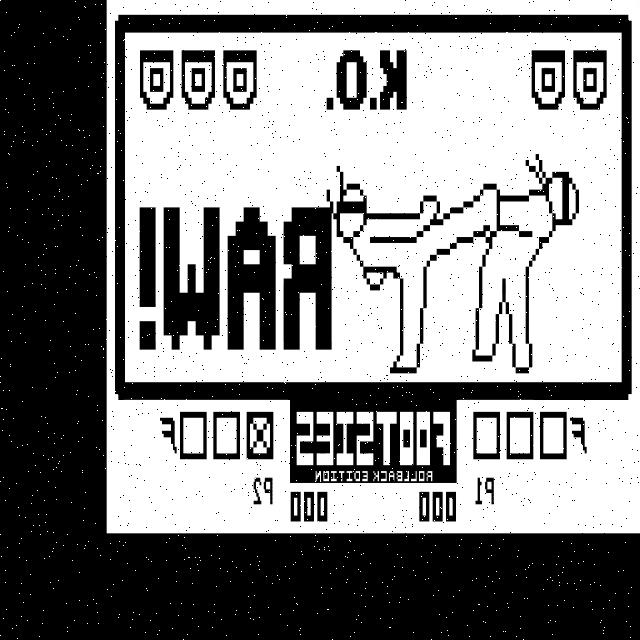Kick: (322, 160, 504, 376)
